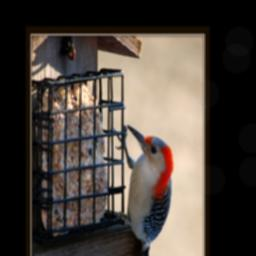Woodpecker: (114, 125, 173, 256)
